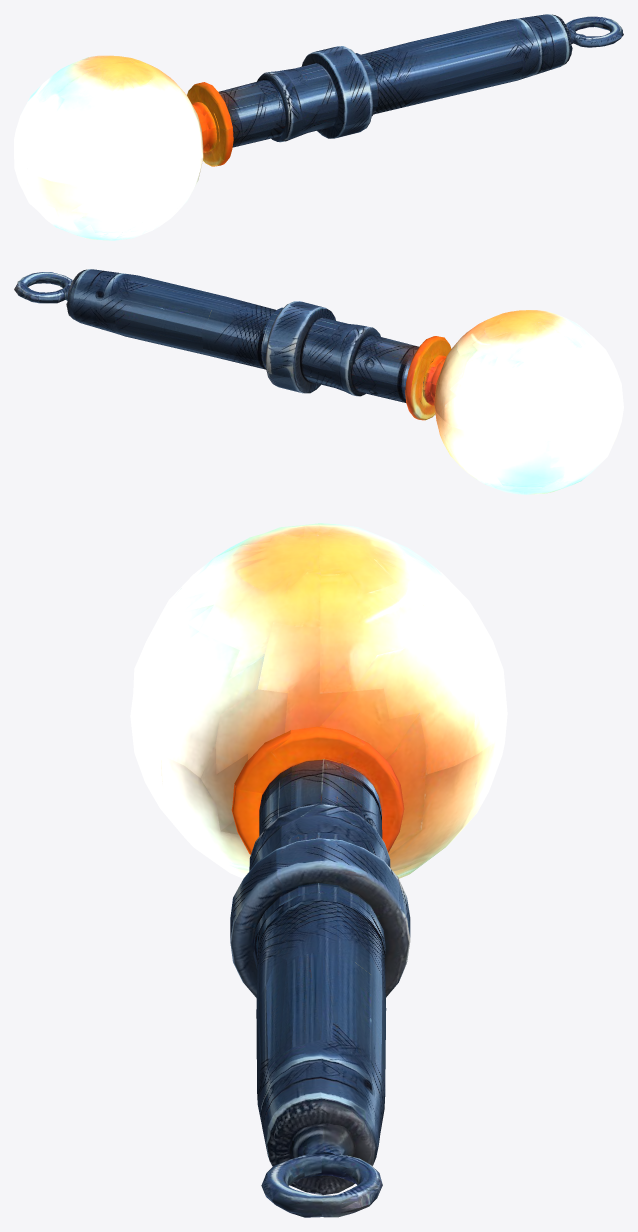
File: glassblower_lung.glb
The picture shows the model from 3 angles, top to bottom: view 1: azimuth 30°, elevation 25°; view 2: azimuth 150°, elevation 25°; view 3: azimuth 270°, elevation 25°; orthographic projection. The views are drawn at different scales.
Size of the model in its own units: 1 by 0.2725 by 0.2783.
Materials: 1 (1 with a texture image).
